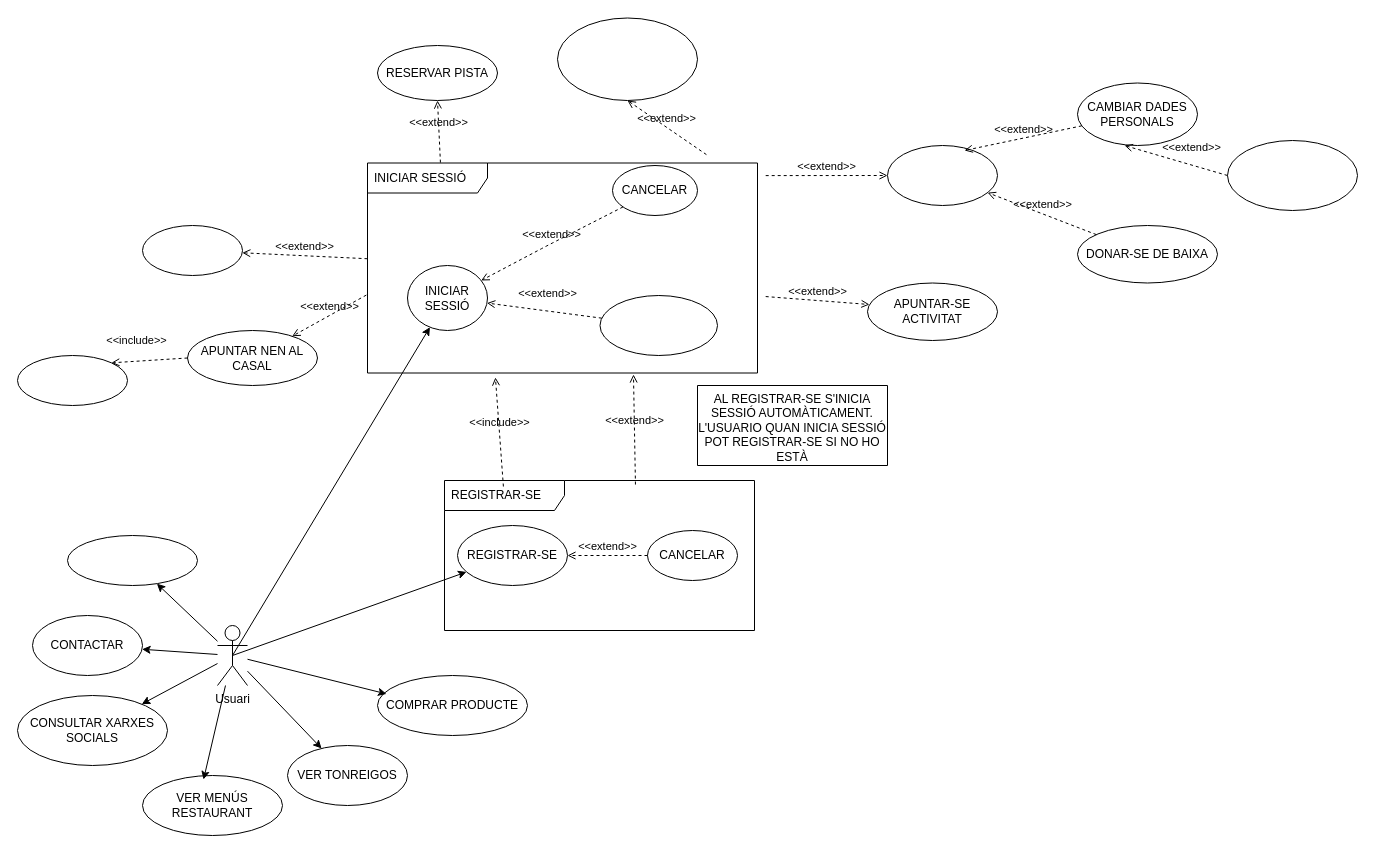
Image size: 1375x853. Some labels were removed from this diagram. The centre of each missing label's shape, as x and y in pixels:
"CONFIGURACIÓ" belongs at pixel 942 175.
"DADES DEL NEN" belongs at pixel 72 380.
"FER-SE SOCI" belongs at pixel 192 250.
"GESTIONAR DADES BANCARIES" belongs at pixel 1292 175.
"INFORMACIÓ DELS ESDEVENIMENTS" belongs at pixel 627 58.
"RECUPERAR CONTRASENYA" belongs at pixel 658 325.
"SELECCIONAR IDIOMA" belongs at pixel 132 560.
